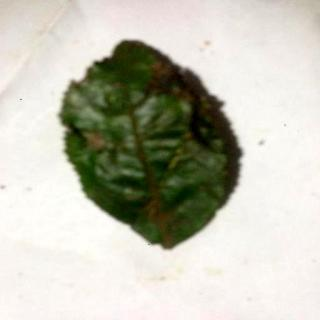Red Leaf Spot: (60, 41, 230, 250)
